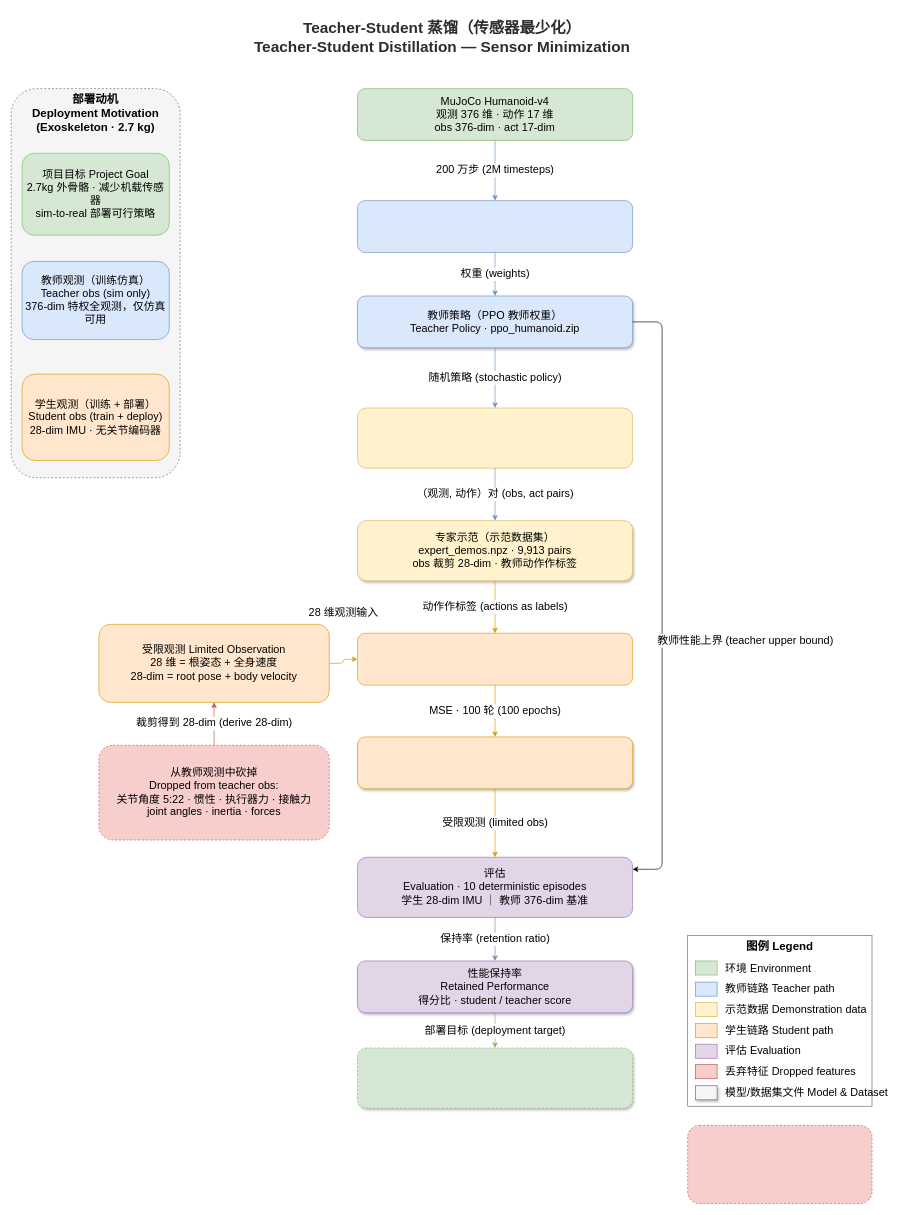
This 899x1215 diagram has some shape labels left out. The centre of each missing label's shape, as x and y in pixels:
"PPO 训练 PPO Training · MlpPolicy 64-64" goes at (495,226).
"学生 BC 网络 Student BC Net · MLP 64-64 · MSE" goes at (495,659).
"学生策略（部署权重） Student Policy · student_bc_limited.pt" goes at (495,763).
"部署目标（设计目标） Deployment Target · 外骨骼真机 仅 IMU 传感器，无仿真特权信息 (IMU-only)" goes at (495,1079).
"随机采样采集 Stochastic Rollout · 100 episodes 用教师策略收集专家轨迹" goes at (495,437).
"风险提示 Risk Note BC 存在协变量偏移 (covariate shift) 风险； 仿真与真实环境存在 sim-to-real gap" goes at (779,1164).
